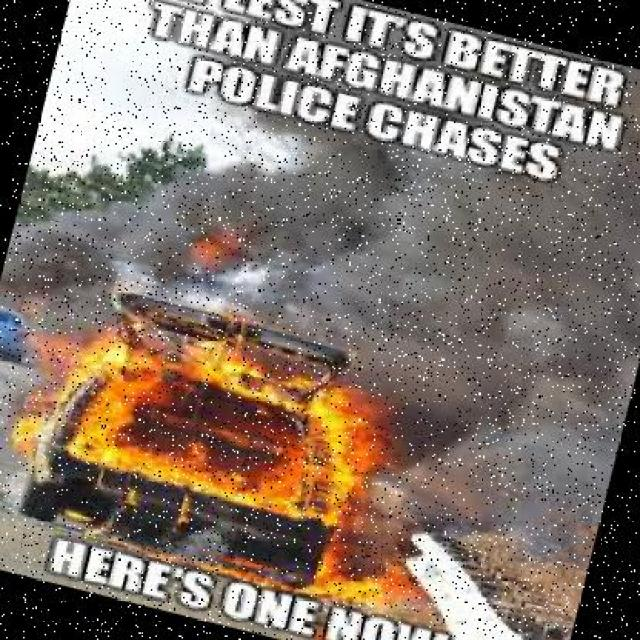fire: (0, 279, 462, 626)
